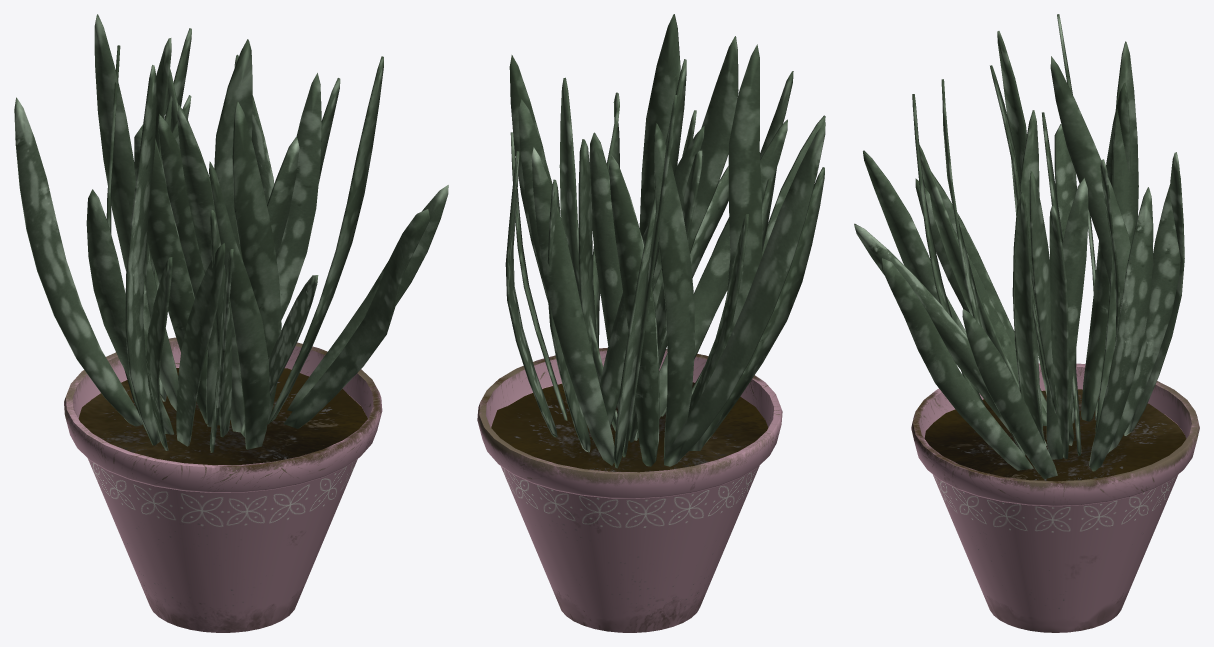
The model's file is aloevera.obj.
The picture shows the model from 3 angles, left to right: view 1: azimuth 30°, elevation 25°; view 2: azimuth 150°, elevation 25°; view 3: azimuth 270°, elevation 25°; orthographic projection. The views are drawn at different scales.
Parts seen in each view (by area): view 1: plant_aloe_CUMesh.001, pot_aloe_Cylinder.002; view 2: plant_aloe_CUMesh.001, pot_aloe_Cylinder.002; view 3: plant_aloe_CUMesh.001, pot_aloe_Cylinder.002.
Boxes of the visible parts, x1=… form: plant_aloe_CUMesh.001: x1=14, y1=14, x2=448, y2=452; pot_aloe_Cylinder.002: x1=64, y1=337, x2=382, y2=632; plant_aloe_CUMesh.001: x1=505, y1=14, x2=825, y2=468; pot_aloe_Cylinder.002: x1=477, y1=347, x2=782, y2=632; plant_aloe_CUMesh.001: x1=854, y1=14, x2=1184, y2=479; pot_aloe_Cylinder.002: x1=911, y1=363, x2=1199, y2=632.
Size of the model in its own units: 0.3344 by 0.4964 by 0.291.
2 materials, 2 textured.
